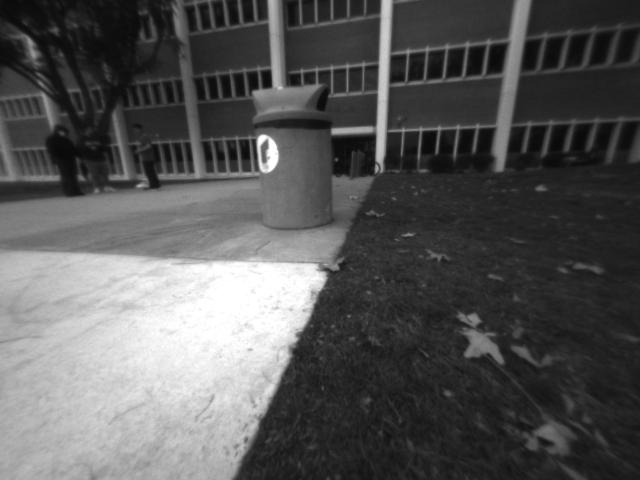trashcan: (242, 81, 355, 236)
